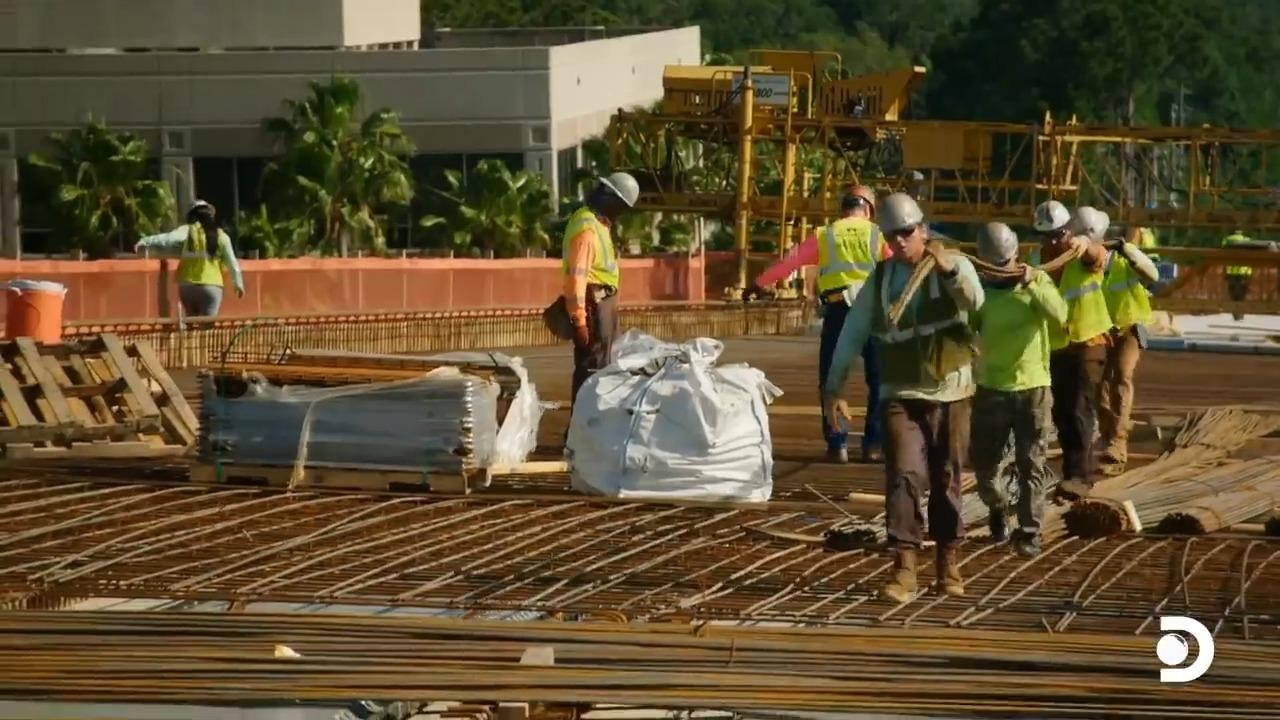Gloves: (569, 324, 597, 346), (740, 278, 765, 302)
Helmet: (875, 192, 924, 233), (975, 221, 1019, 266), (598, 171, 639, 207), (1078, 198, 1109, 243), (1032, 199, 1070, 232), (841, 184, 876, 219), (185, 199, 215, 218)
Person: (823, 192, 986, 603), (753, 184, 894, 464), (964, 220, 1071, 558), (1031, 199, 1116, 499), (1072, 205, 1159, 477), (559, 171, 640, 443), (134, 198, 245, 329)
Safety Boot: (872, 570, 919, 606), (936, 550, 969, 593), (984, 507, 1011, 545), (1015, 526, 1045, 551)
Safety Vest: (878, 283, 963, 375), (985, 272, 1047, 379), (1055, 250, 1099, 333), (565, 224, 615, 286), (819, 229, 872, 286), (1102, 253, 1137, 320), (178, 232, 219, 281)
bare-arms: (820, 388, 855, 437)
